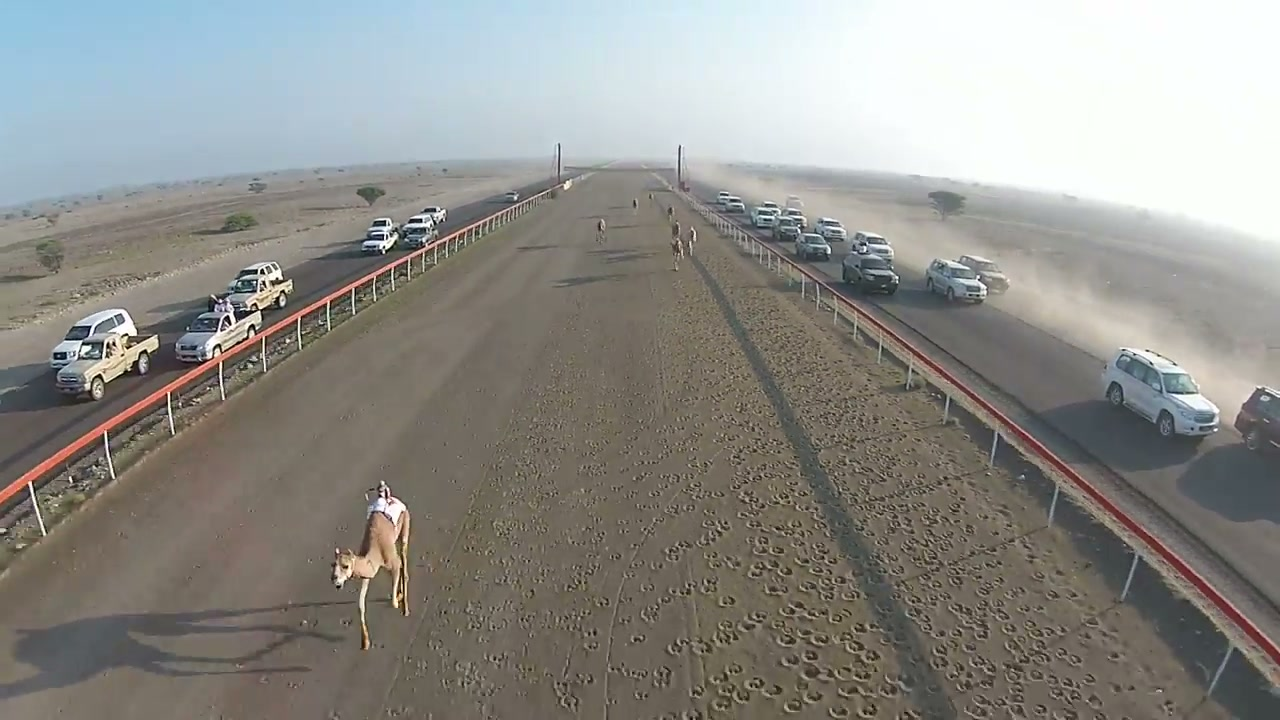animal_foot_print: (392, 226, 1228, 719), (678, 246, 1201, 717)
